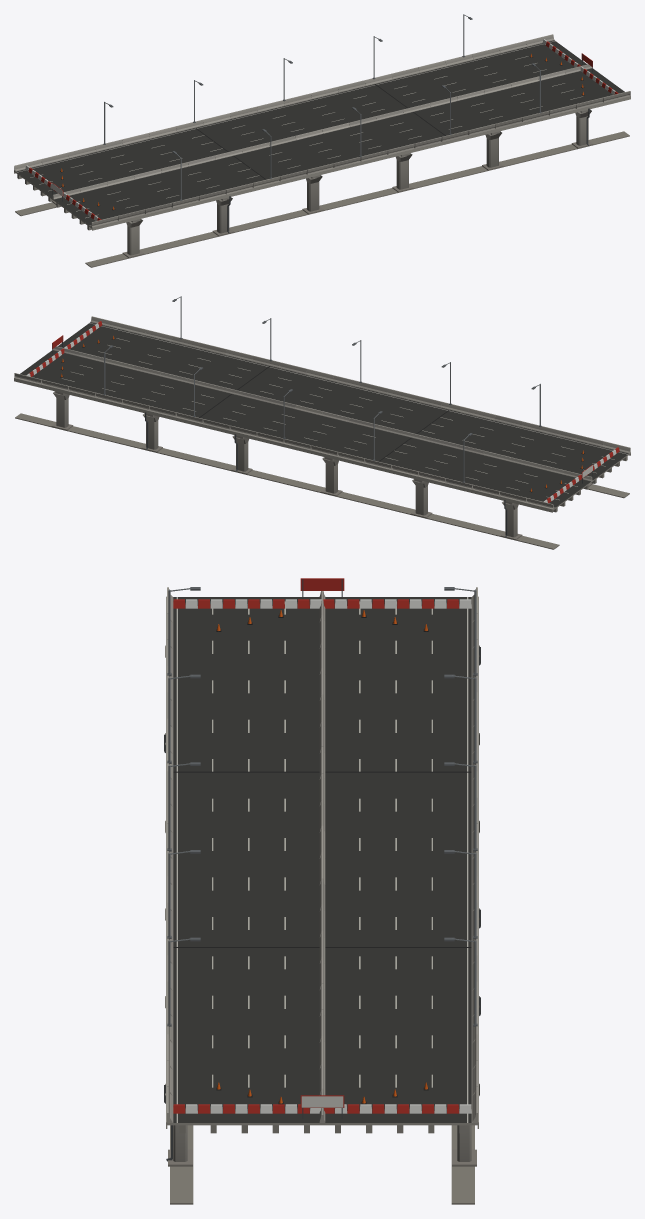
Rendered from ns_flyover_lod1.glb.
The picture shows the model from 3 angles, top to bottom: view 1: azimuth 30°, elevation 25°; view 2: azimuth 150°, elevation 25°; view 3: azimuth 270°, elevation 25°; orthographic projection. The views are drawn at different scales.
Visible parts, largest first — view 1: ns_flyover_lod1; view 2: ns_flyover_lod1; view 3: ns_flyover_lod1.
Boxes of the visible parts, x1=… form: ns_flyover_lod1: x1=14, y1=14, x2=630, y2=267; ns_flyover_lod1: x1=14, y1=296, x2=630, y2=549; ns_flyover_lod1: x1=164, y1=578, x2=480, y2=1204.
Bounding box in the file's own units: 120 × 18.99 × 30.6.
